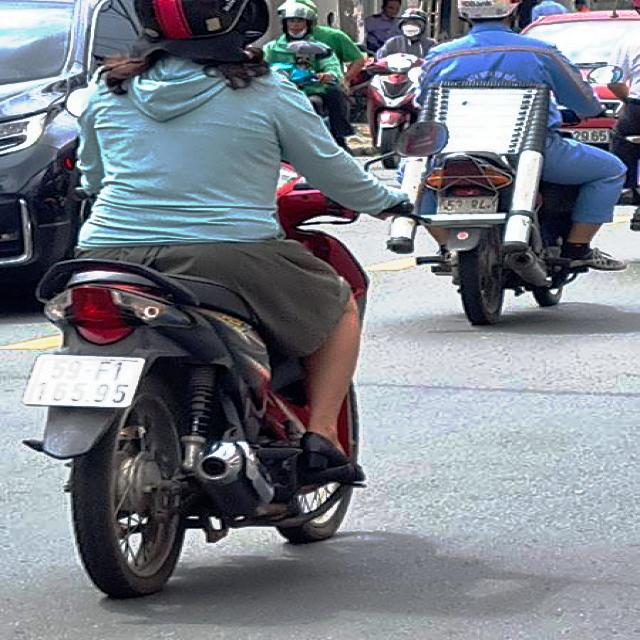license_plate: (22, 357, 150, 410)
